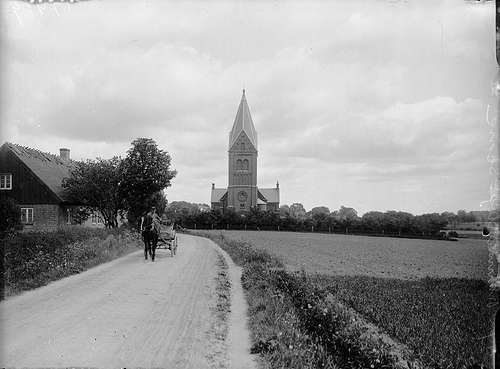horse: (140, 213, 160, 264)
